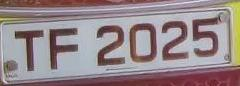0: (125, 17, 162, 68)
2: (93, 19, 129, 70), (159, 16, 191, 65)
5: (190, 13, 222, 64)
F: (43, 22, 84, 73)
T: (10, 24, 49, 74)
